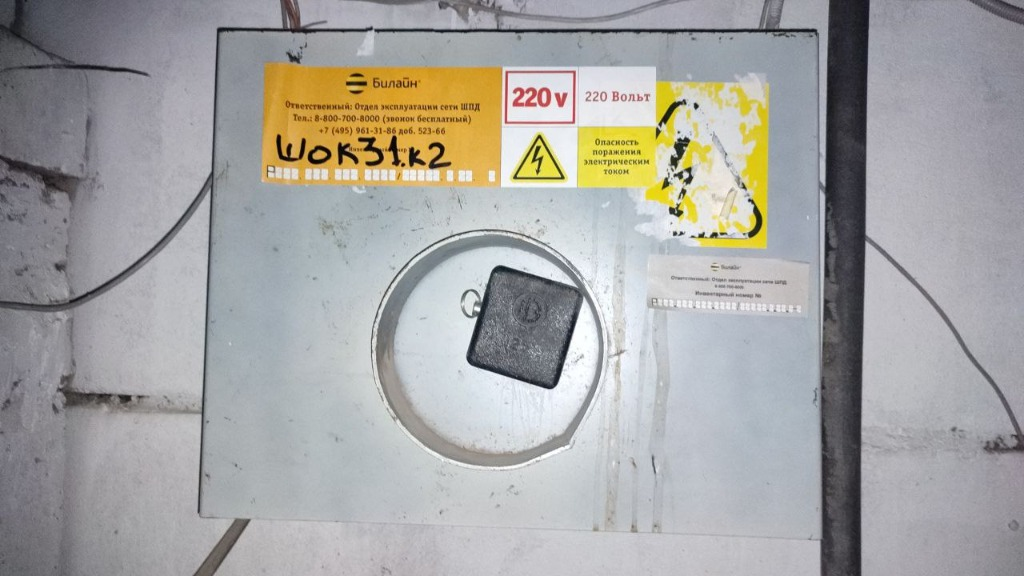shta-3: (196, 26, 823, 541)
